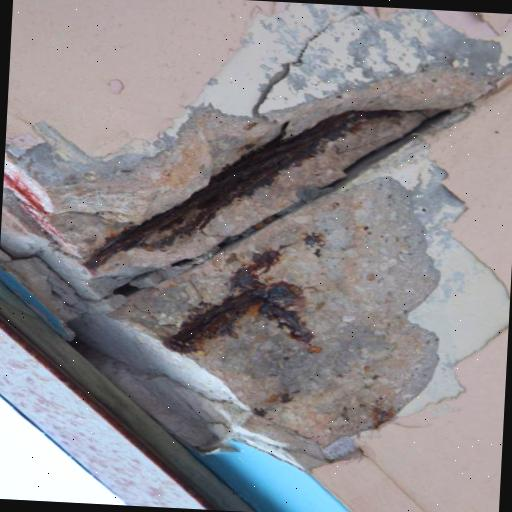spalling: (17, 69, 488, 472)
